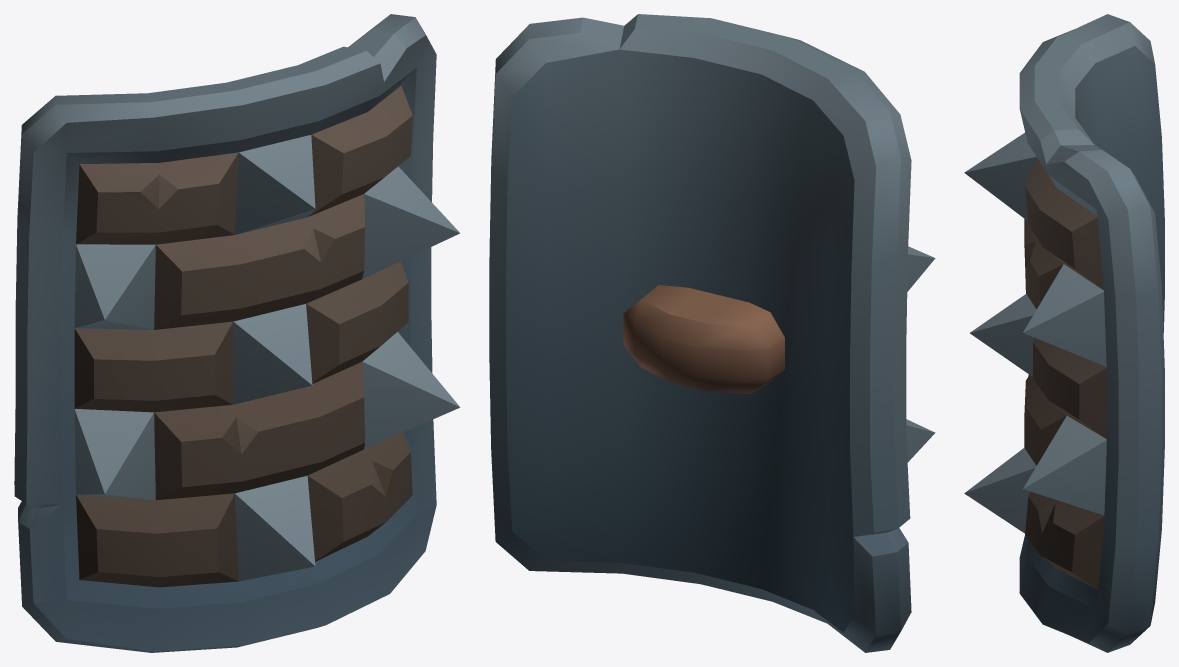
File: XW_shield_C.glb
3 renders of one model, left to right at view 1: azimuth 30°, elevation 25°; view 2: azimuth 150°, elevation 25°; view 3: azimuth 270°, elevation 25°, orthographic. The views are drawn at different scales.
Parts seen in each view (by area): view 1: shield_C; view 2: shield_C; view 3: shield_C.
Part boxes in pixels (x1,y1,x2,y2): shield_C: (14,14,460,652); shield_C: (489,14,935,652); shield_C: (964,14,1164,652).
Size of the model in its own units: 1.02 by 1.33 by 0.4846.
